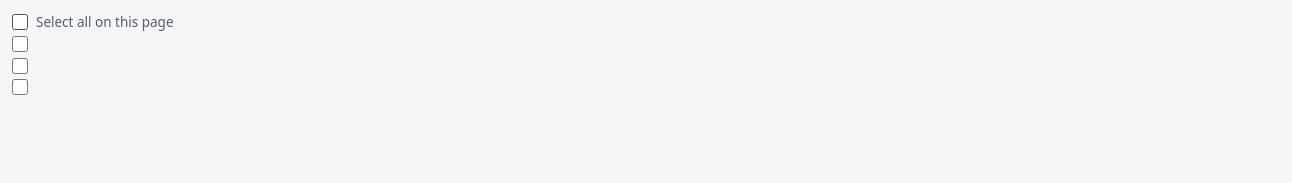
it: selection (AC-1) › labels each checkbox with its DOC-ID and shows the bar with the count
Expected: the button "Download zip" is not shown
Click the checkbox named "Select DOC-FY26-27-00002": (20, 66) x1=12 y1=58 x2=28 y2=74
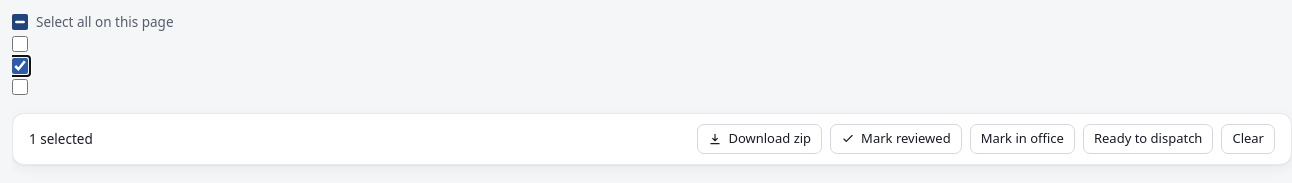
Now the text with test id "selection-count" reads "1 selected", box x1=29 y1=130 x2=93 y2=148
Now the button "Download zip" is enabled, box x1=697 y1=124 x2=822 y2=154
Now the button "Mark reviewed" is enabled, box x1=830 y1=124 x2=962 y2=154
